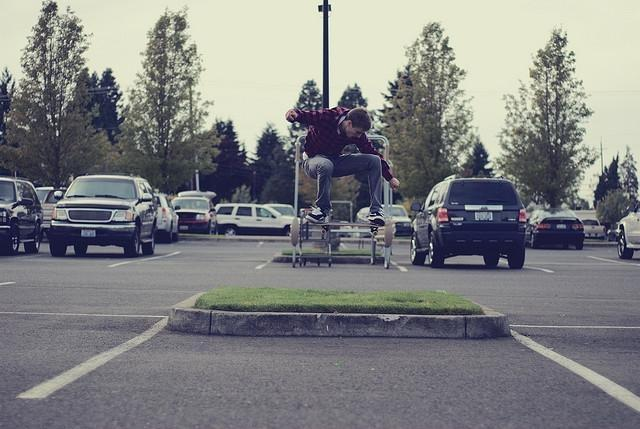car: (409, 174, 526, 270), (48, 175, 158, 258), (0, 176, 44, 255), (215, 203, 308, 237), (526, 209, 586, 250), (170, 195, 218, 236), (354, 204, 412, 237), (617, 191, 640, 259), (154, 190, 180, 246), (36, 188, 68, 228), (581, 218, 606, 241)
